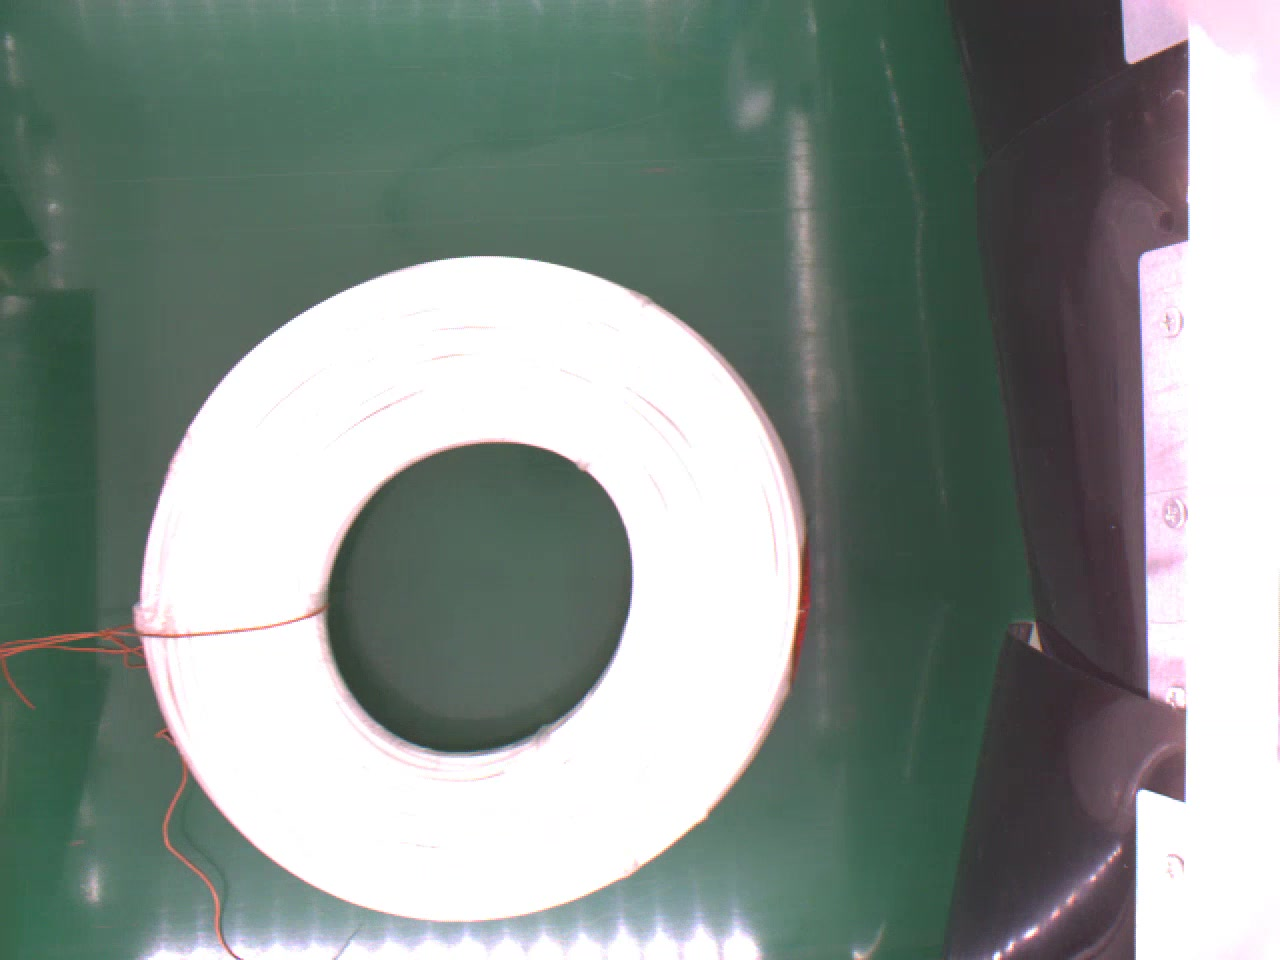white: (134, 247, 820, 924)
